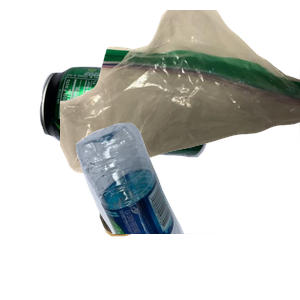glass: (96, 190, 230, 300)
metal: (37, 64, 245, 214)
plastic: (73, 120, 300, 300)
trash: (60, 10, 300, 176)
